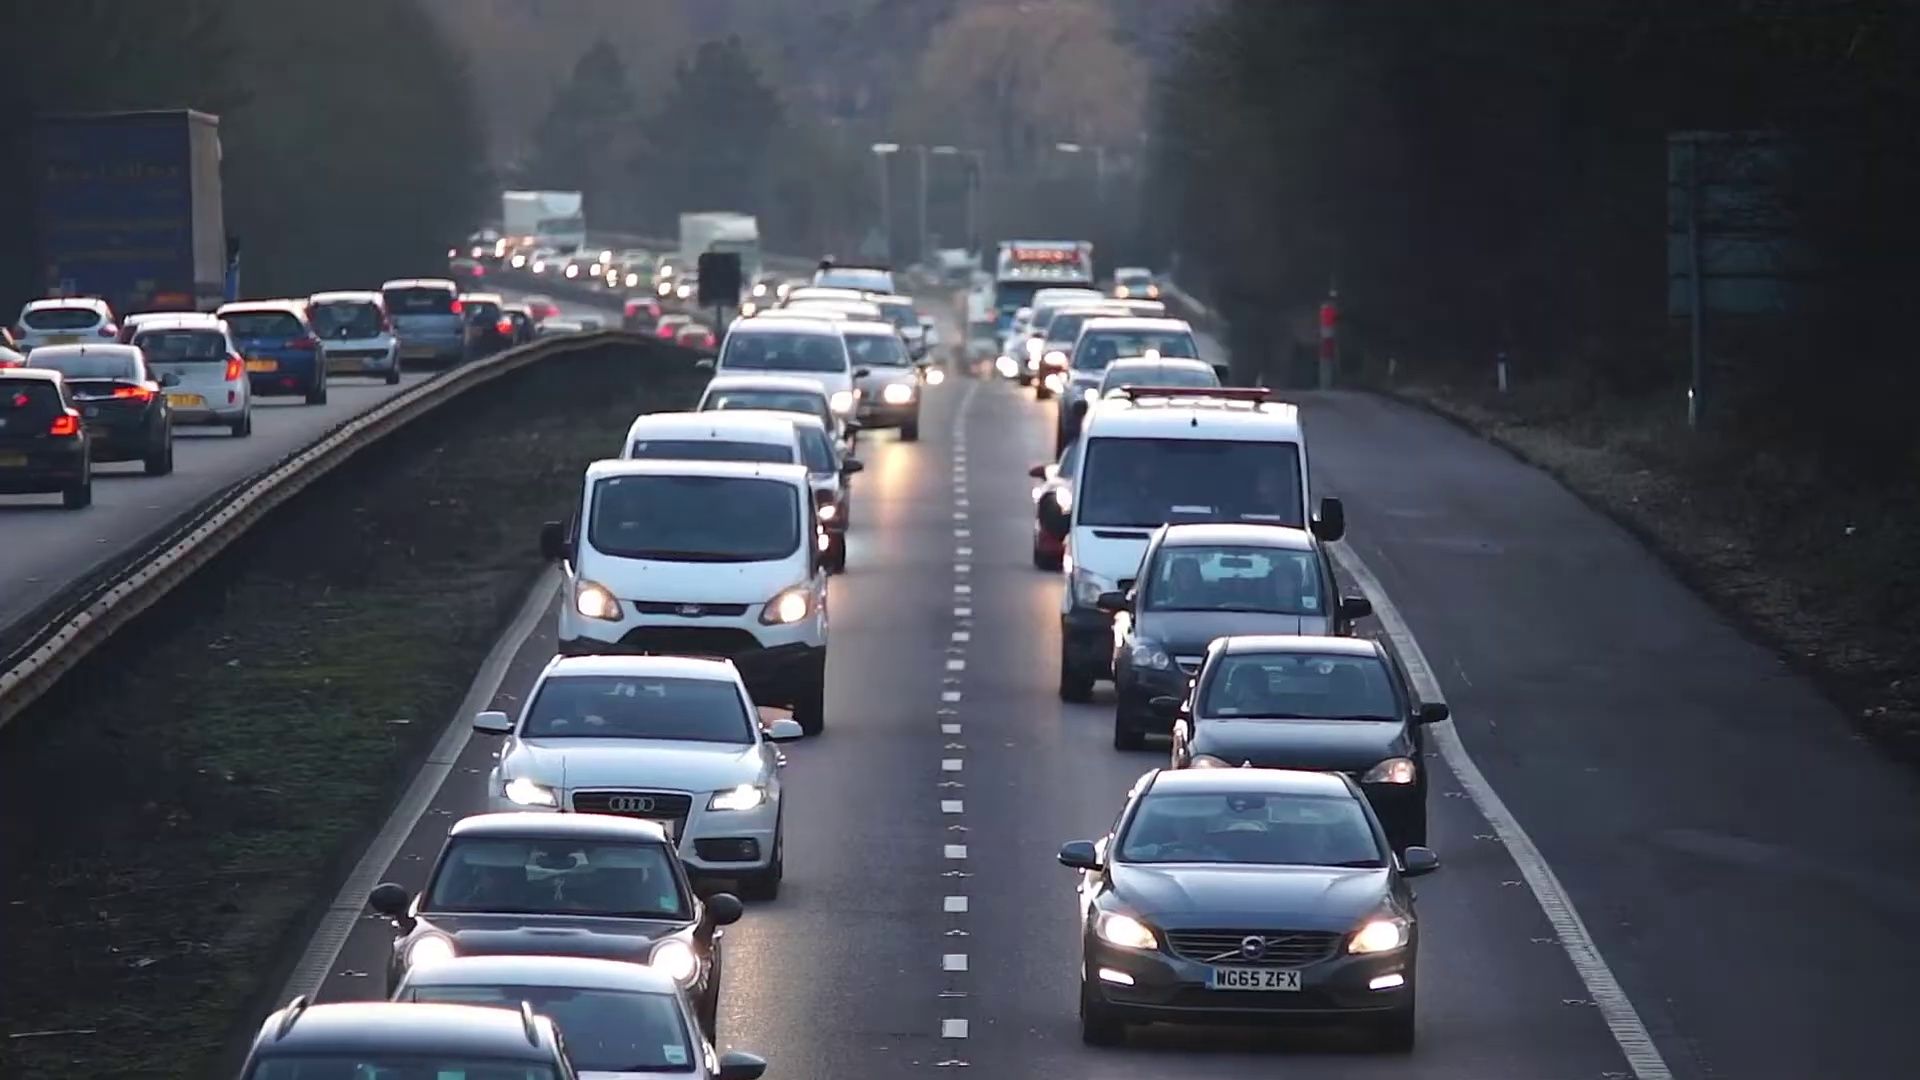license_plate: (1211, 966, 1303, 996)
